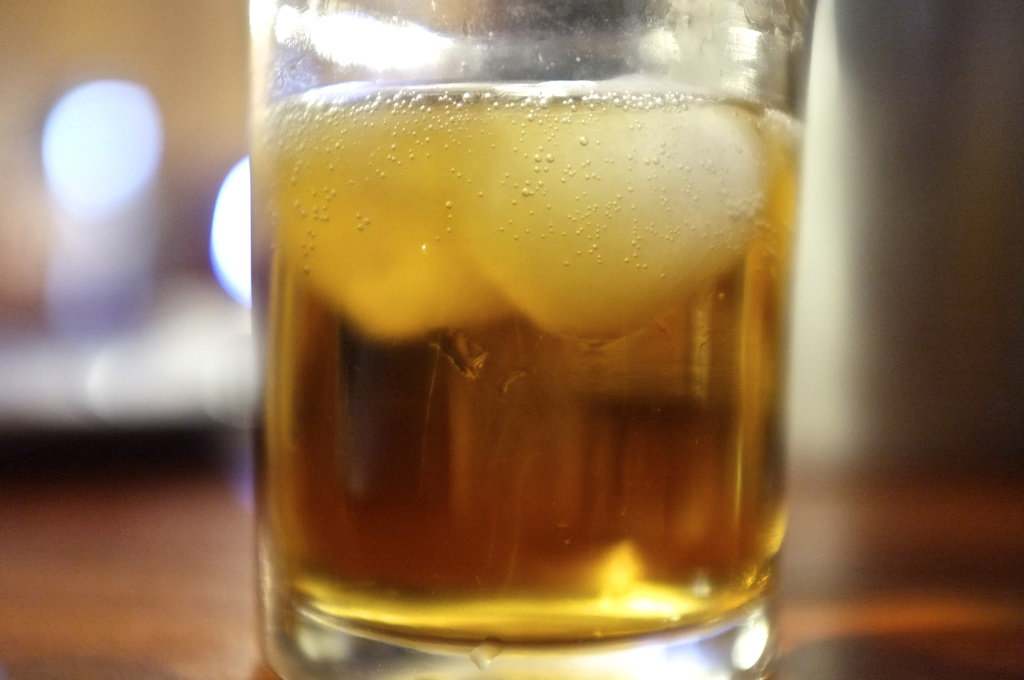Beer: (248, 0, 817, 679)
